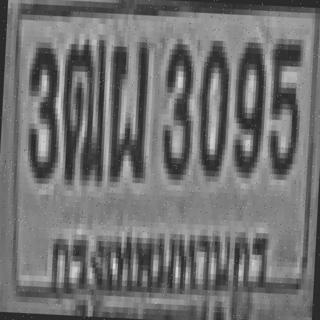A18: (58, 33, 109, 182)
A28: (105, 35, 150, 178)
N00: (195, 35, 230, 172)
N03: (23, 36, 60, 179), (158, 38, 195, 175)
N05: (264, 33, 302, 175)
N09: (231, 36, 266, 173)
P04: (41, 200, 276, 314)
